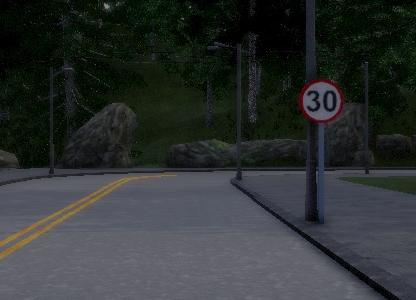Speed_30: (297, 73, 343, 127)
